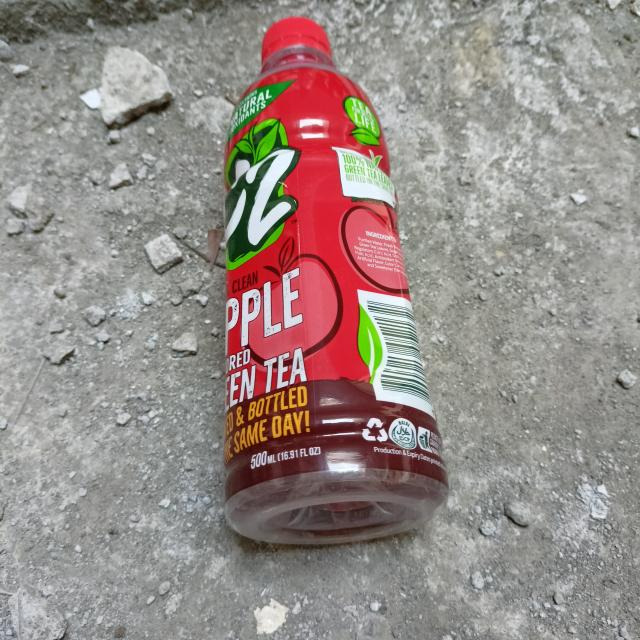Bottle: (221, 18, 448, 552)
